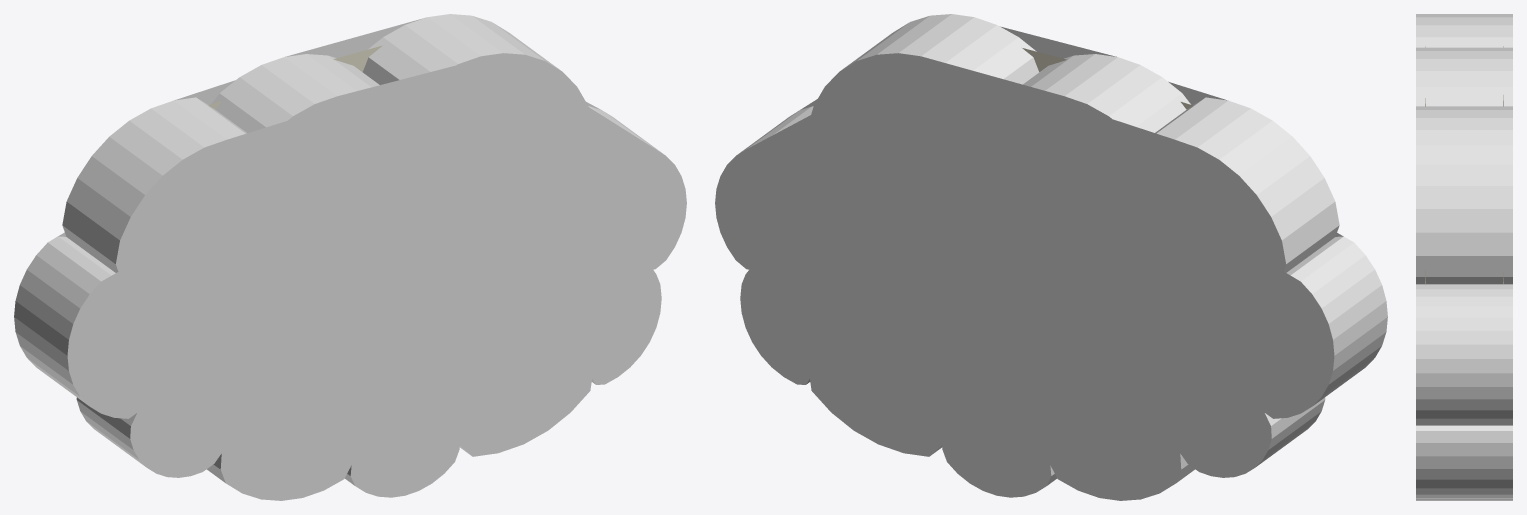
The model's file is resource__surrounding__cloud__rounded.fbx.
3 renders of one model, left to right at view 1: azimuth 30°, elevation 25°; view 2: azimuth 150°, elevation 25°; view 3: azimuth 270°, elevation 25°, orthographic. The views are drawn at different scales.
Parts seen in each view (by area): view 1: Map_Surrounding_Cloud_Rounded; view 2: Map_Surrounding_Cloud_Rounded; view 3: Map_Surrounding_Cloud_Rounded.
Boxes of the visible parts, x1,y1,x2,y2 form: Map_Surrounding_Cloud_Rounded: (14,14,686,500); Map_Surrounding_Cloud_Rounded: (715,14,1387,500); Map_Surrounding_Cloud_Rounded: (1416,14,1512,500).
Size of the model in its own units: 454 by 295 by 67.82.
